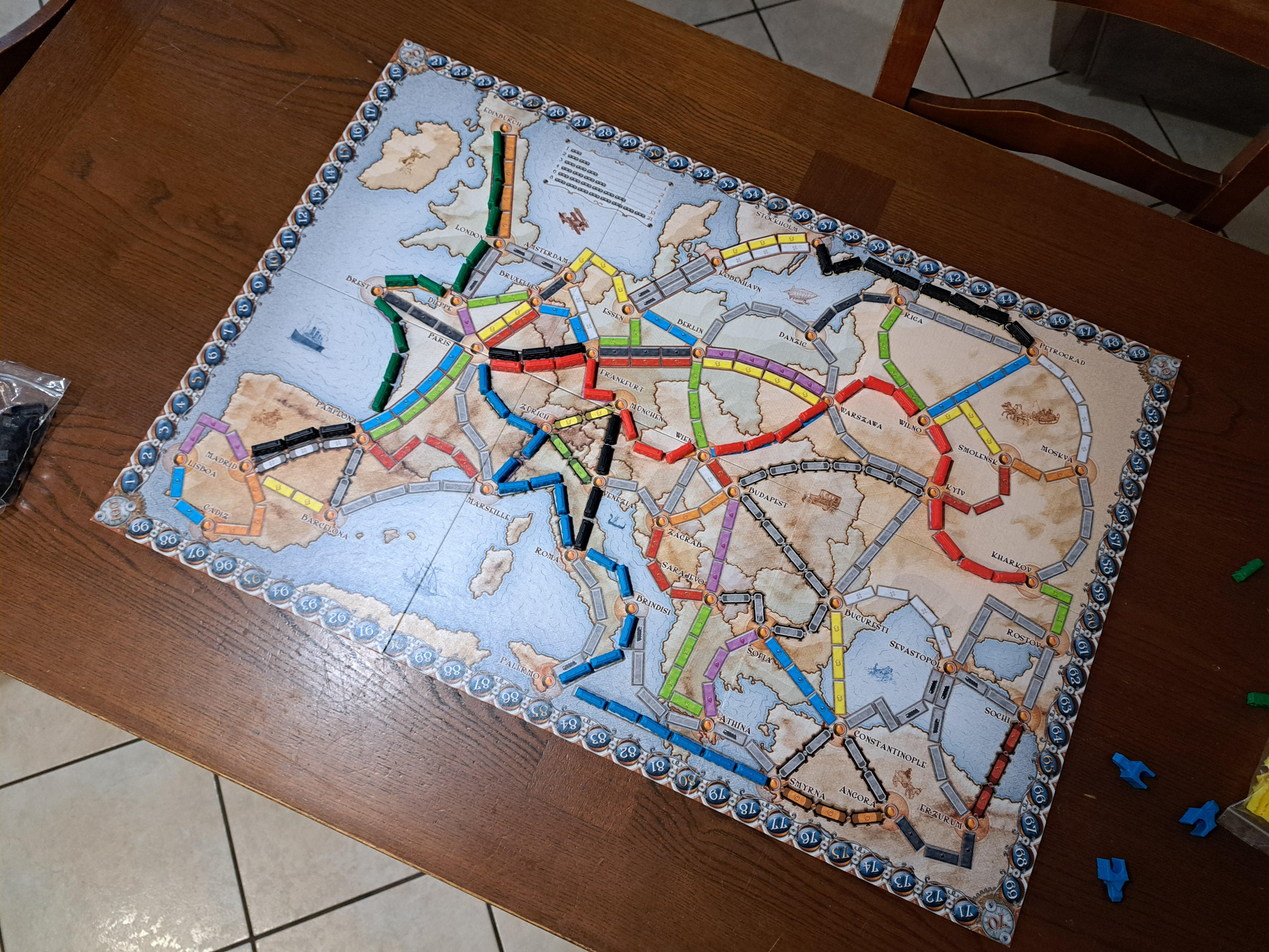corner_bl: (90, 489, 141, 535)
corner_br: (975, 897, 1020, 946)
corner_tl: (391, 39, 430, 72)
corner_tr: (1142, 349, 1182, 387)
